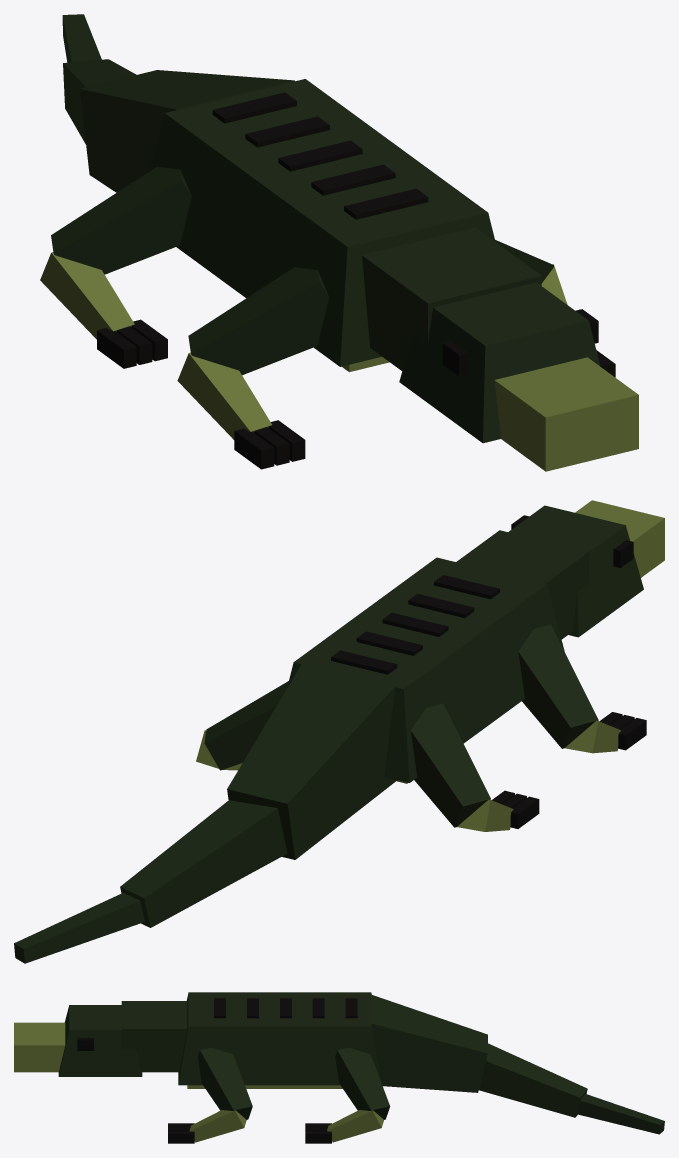
The model's file is monitor.glb.
3 views of the same model, one above another, from view 1: azimuth 30°, elevation 25°; view 2: azimuth 150°, elevation 25°; view 3: azimuth 270°, elevation 25° (orthographic). The views are drawn at different scales.
Visible parts, largest first — view 1: monitor; view 2: monitor; view 3: monitor.
Boxes of the visible parts, x1=… form: monitor: x1=40, y1=14, x2=638, y2=471; monitor: x1=14, y1=500, x2=664, y2=963; monitor: x1=14, y1=992, x2=664, y2=1143.
Bounding box in the file's own units: 0.7133 × 0.3494 × 2.18.
1 material, 1 textured.
